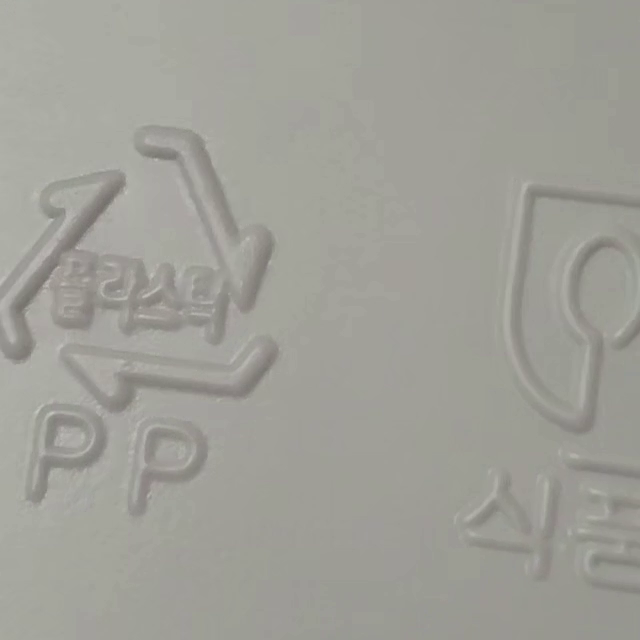Plastic: (1, 118, 272, 404)
